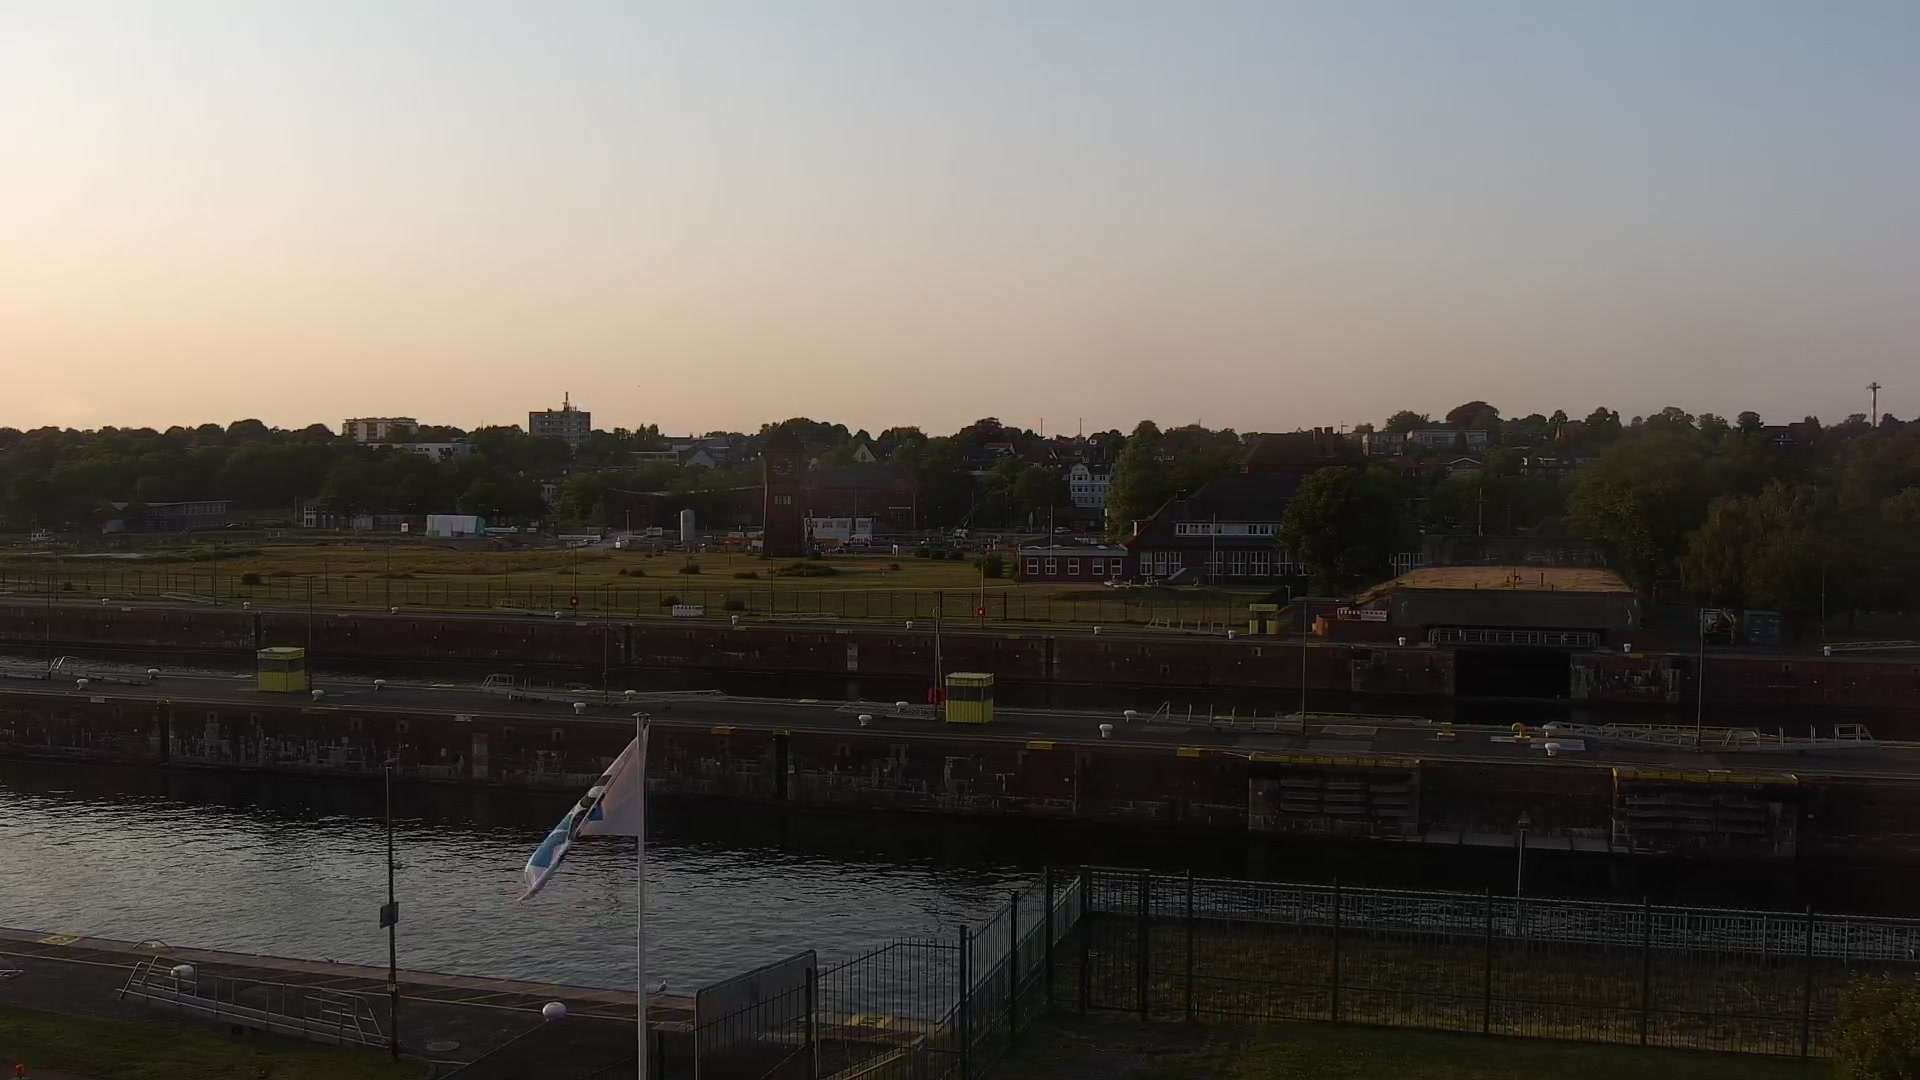land: (1702, 607, 1735, 640), (841, 530, 873, 546), (1054, 525, 1072, 535)
sea: (1601, 655, 1706, 707)
